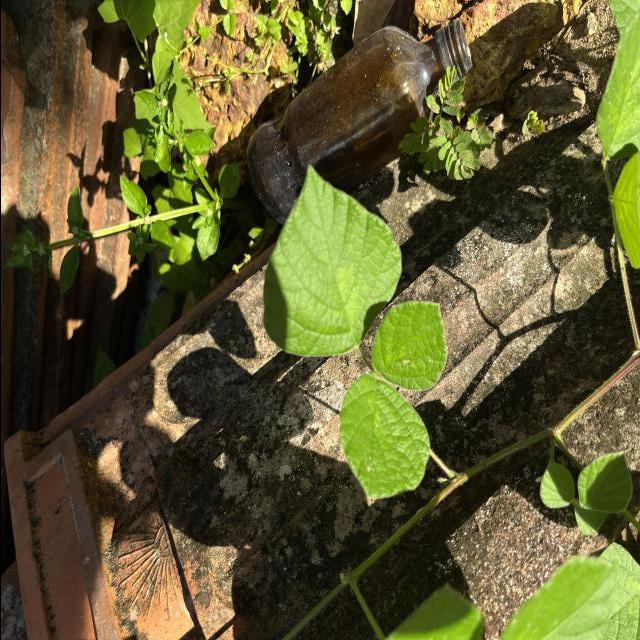Pseudarthria viscida: (260, 160, 447, 508)
